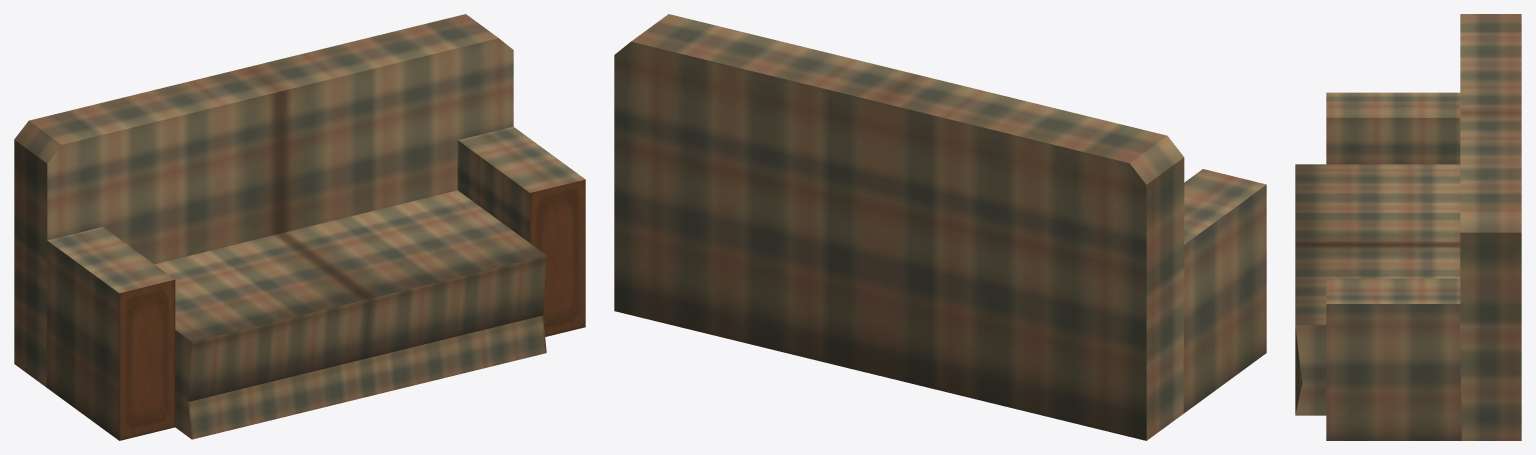
The model's file is Couch.fbx.
3 renders of one model, left to right at view 1: azimuth 30°, elevation 25°; view 2: azimuth 150°, elevation 25°; view 3: azimuth 270°, elevation 25°, orthographic. The views are drawn at different scales.
Visible parts, largest first — view 1: Couch; view 2: Couch; view 3: Couch.
Part boxes in pixels (box(x1,y1,x2,y2)): Couch: box(14, 14, 585, 440); Couch: box(614, 14, 1266, 440); Couch: box(1295, 14, 1521, 440).
Bounding box in the file's own units: 603 × 273 × 296.
